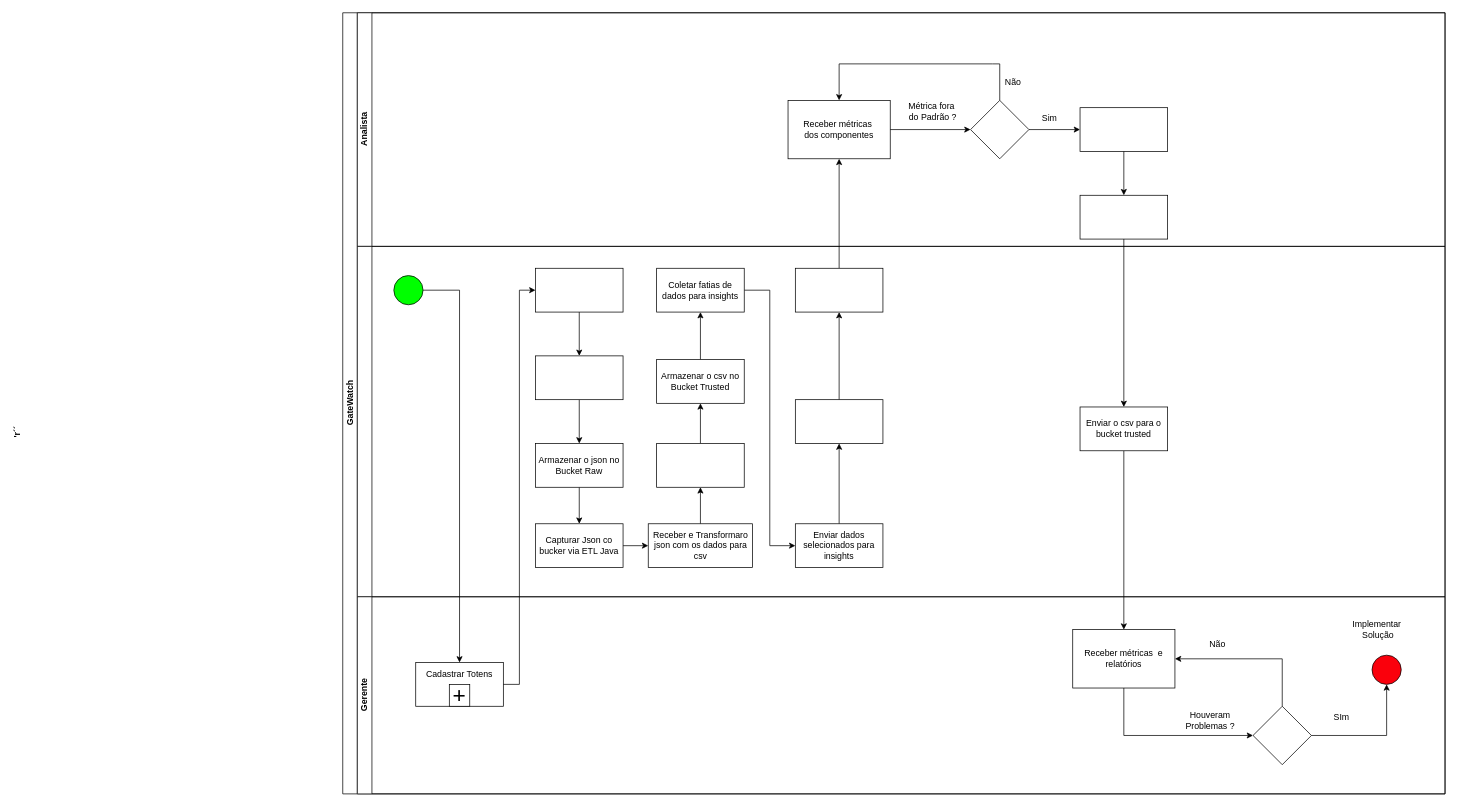
The diagram is 1458 pixels wide and 807 high, and some of its shapes have lost their labels. The centre of each missing label's shape, as x and y in pixels:
Armazenar o csv no Bucket Curated: the point at 839,421
Emitir alerta: the point at 1123,129
Envia Informação para Dashboard do Analista: the point at 839,290
Envia json com os dados para o bucket: the point at 579,377
Envia o csv para o bucket trusted: the point at 700,465
Indentificar Incidente/Problema: the point at 1123,217
Iniciar a captura de dados do totem: the point at 579,290
